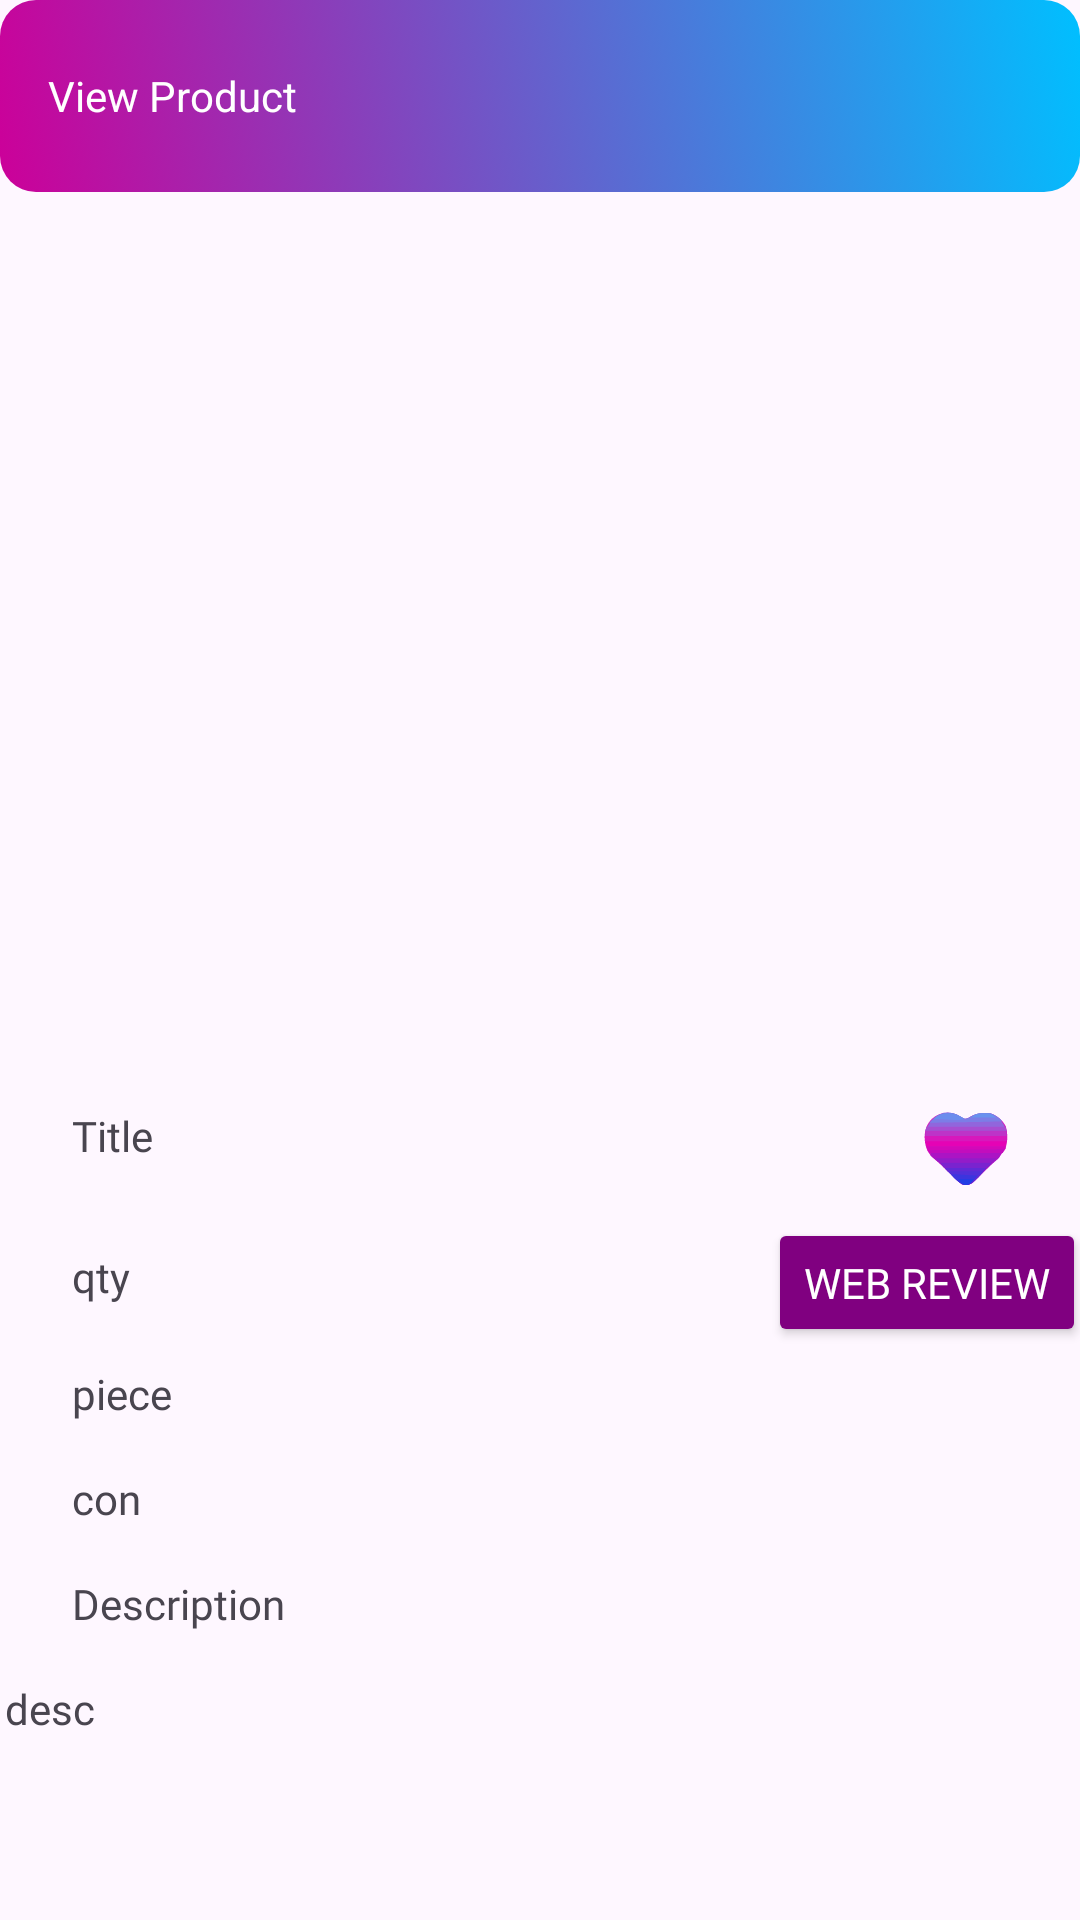

Icon click points for this 1080 x 1920 phone screenshot, format (x,y):
heart: (966,1148)
